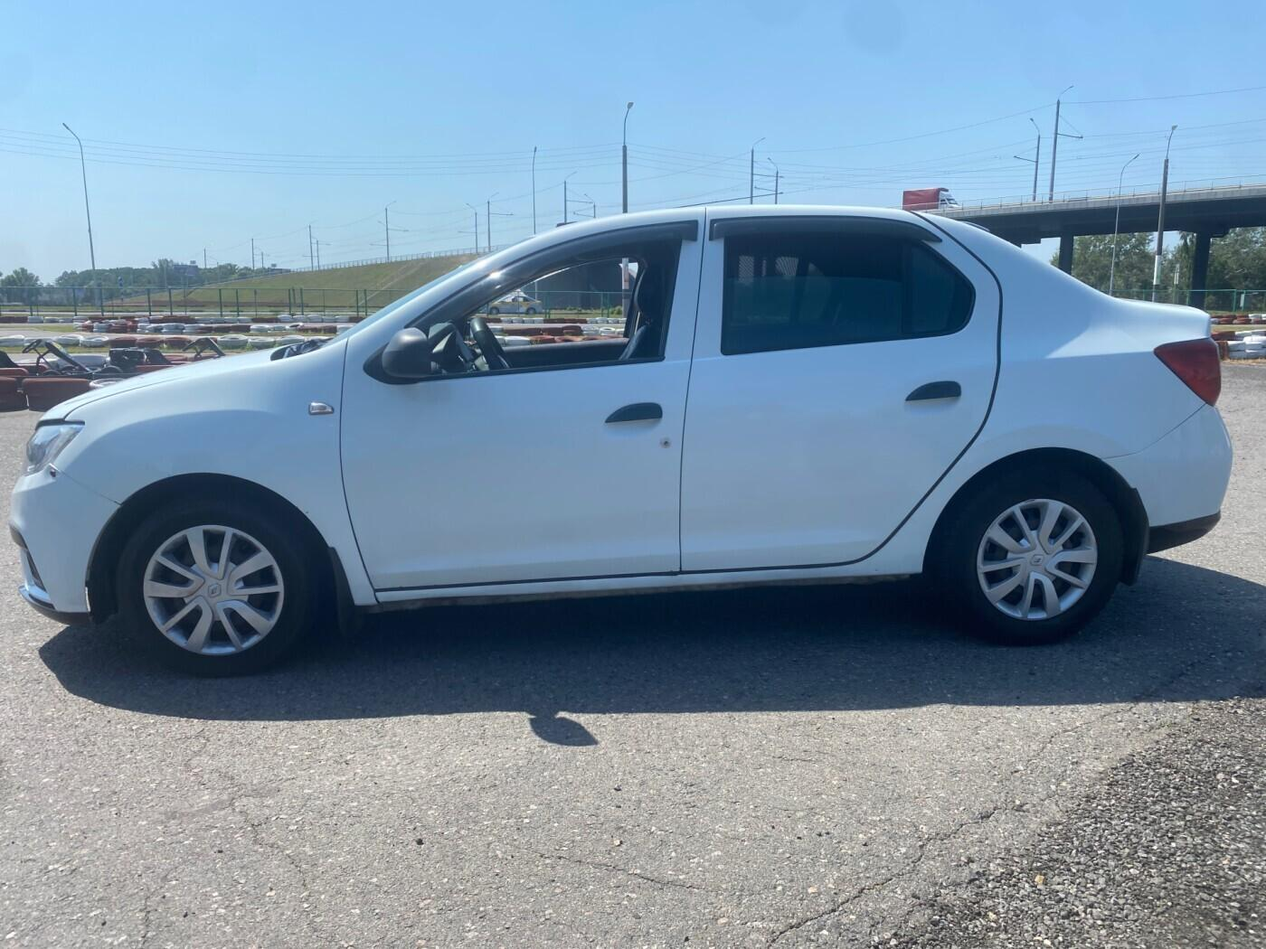Logan_2018: (12, 198, 1232, 668)
